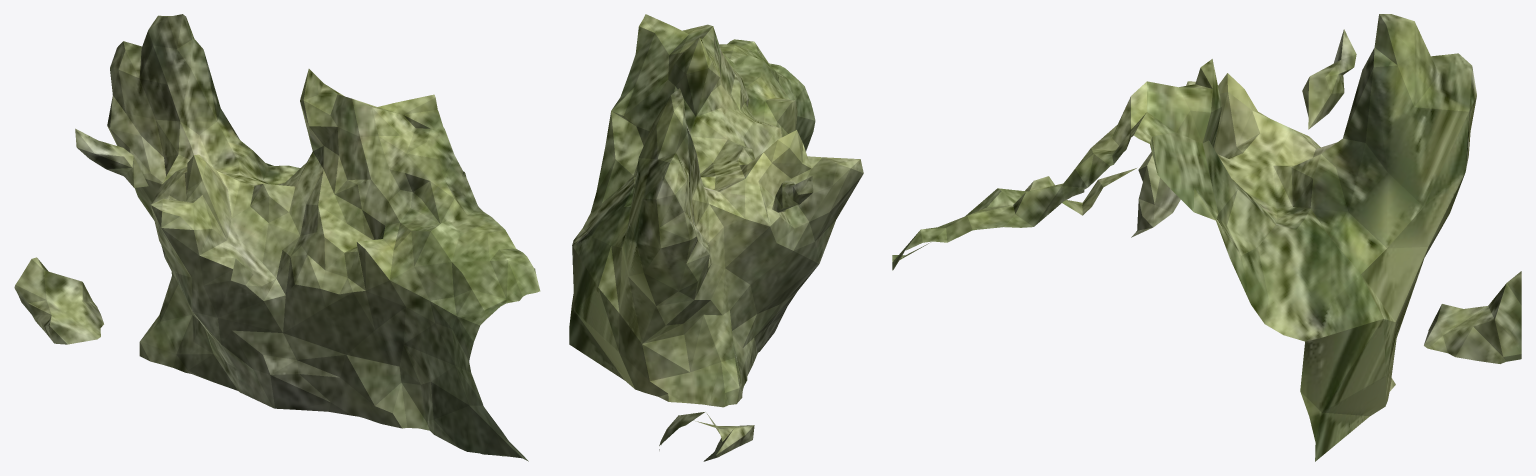
3 renders of one model, left to right at view 1: azimuth 30°, elevation 25°; view 2: azimuth 150°, elevation 25°; view 3: azimuth 270°, elevation 25°, orthographic. The views are drawn at different scales.
Size of the model in its own units: 3.29 by 3.81 by 5.9.
Materials: 2 (2 with a texture image).
